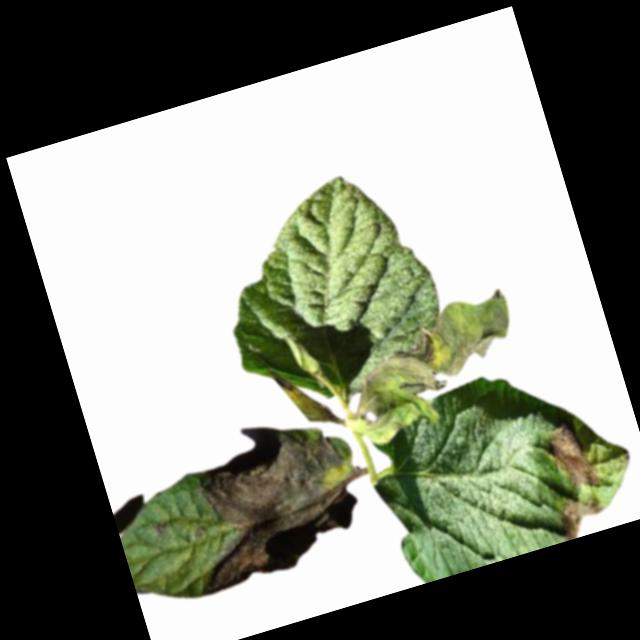Late_blight: (160, 401, 373, 595), (334, 286, 540, 450), (543, 414, 605, 496), (552, 489, 606, 541), (150, 516, 170, 536)
